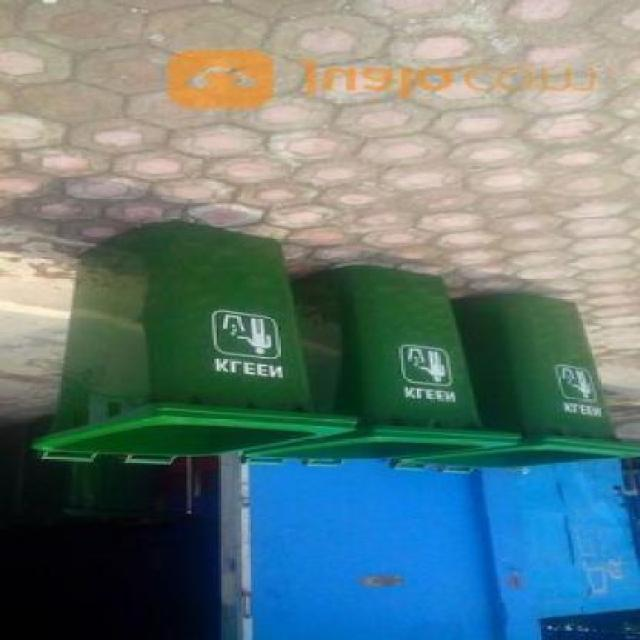garbage container: (26, 216, 359, 470)
